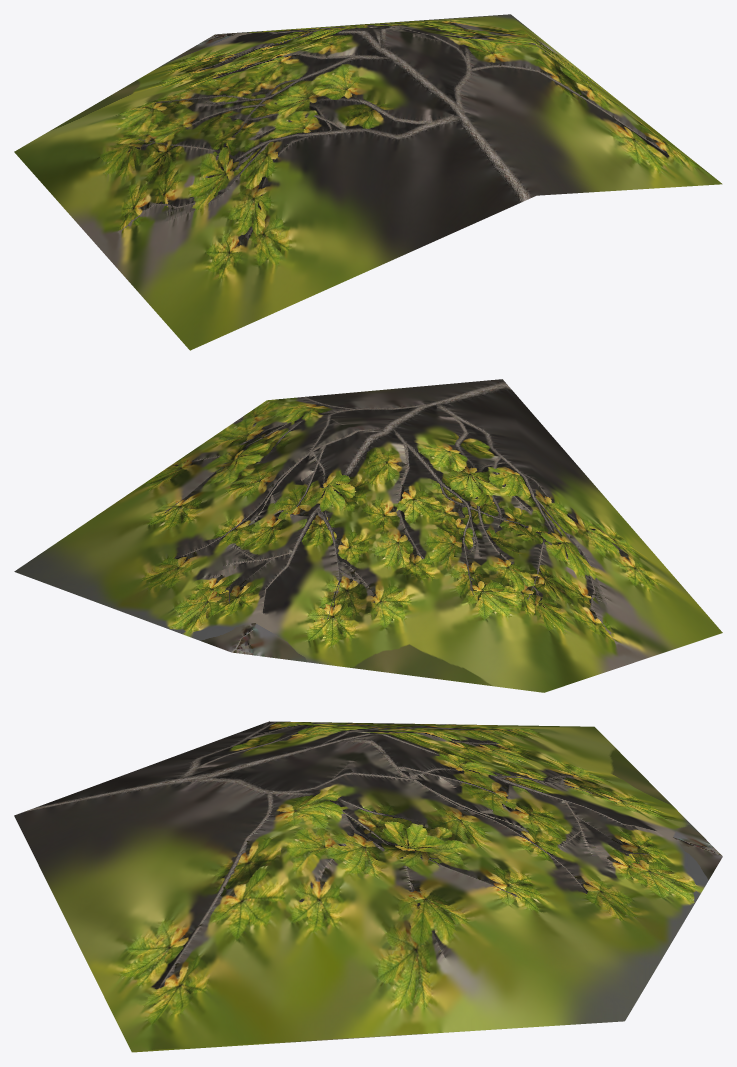
File: Chestnut Branch.fbx
3 renders of one model, top to bottom at view 1: azimuth 30°, elevation 25°; view 2: azimuth 150°, elevation 25°; view 3: azimuth 270°, elevation 25°, orthographic. The views are drawn at different scales.
Visible parts, largest first — view 1: Polygon; view 2: Polygon; view 3: Polygon.
Boxes of the visible parts, left/top/right/bottom form: Polygon: left=14, top=14, right=722, bottom=350; Polygon: left=14, top=379, right=722, bottom=692; Polygon: left=14, top=721, right=722, bottom=1052.
Bounding box in the file's own units: 203 × 72.77 × 200.
Materials: 1 (1 with a texture image).
